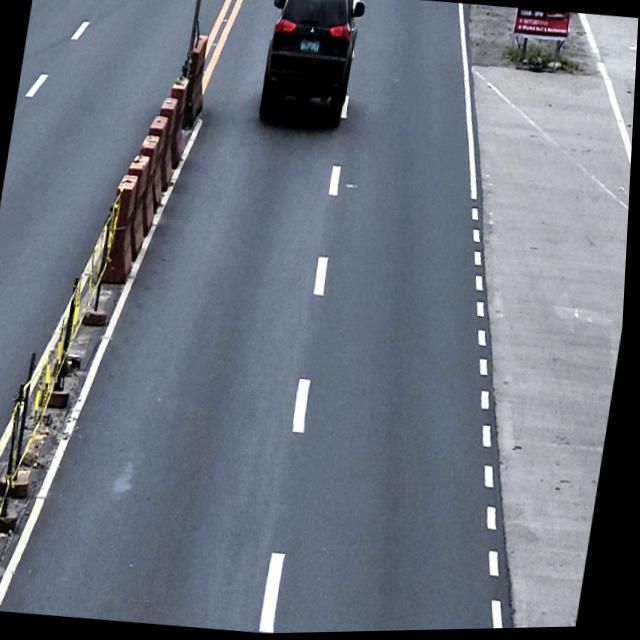Car: (253, 0, 368, 137)
License-Plate: (299, 40, 322, 57)
